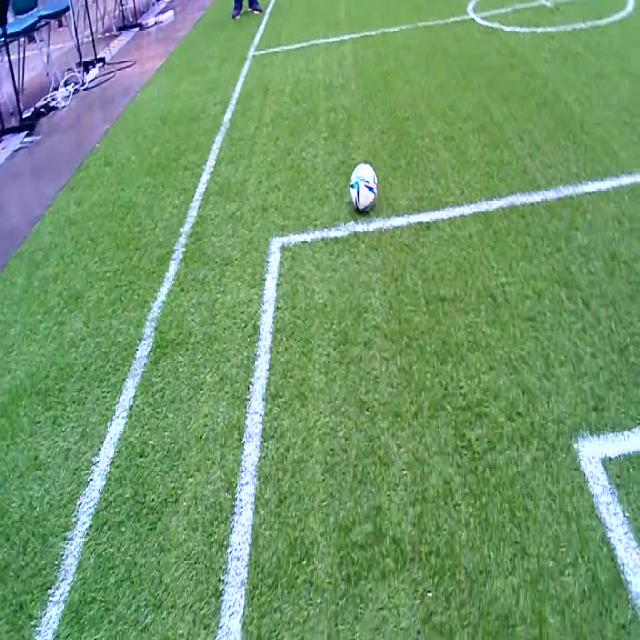ball: (350, 163, 378, 214)
